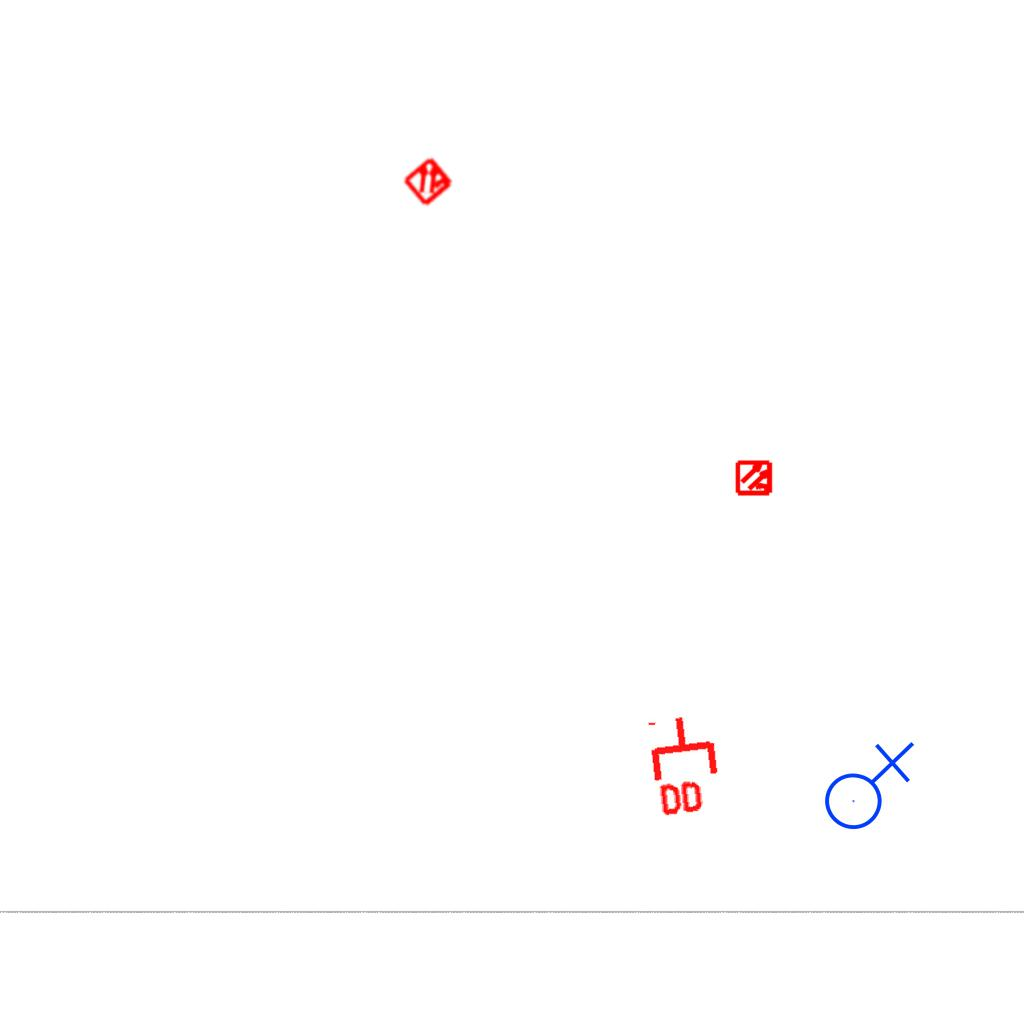Datenanschluss_zweifach: (645, 710, 728, 821)
Elektroanschluss_allgemein_230V_Geraeteanschlussdose_230V: (816, 737, 915, 831)
OT_Multisensormelder_(Kombination_RMO_WMD): (389, 141, 469, 221), (727, 450, 783, 506)
